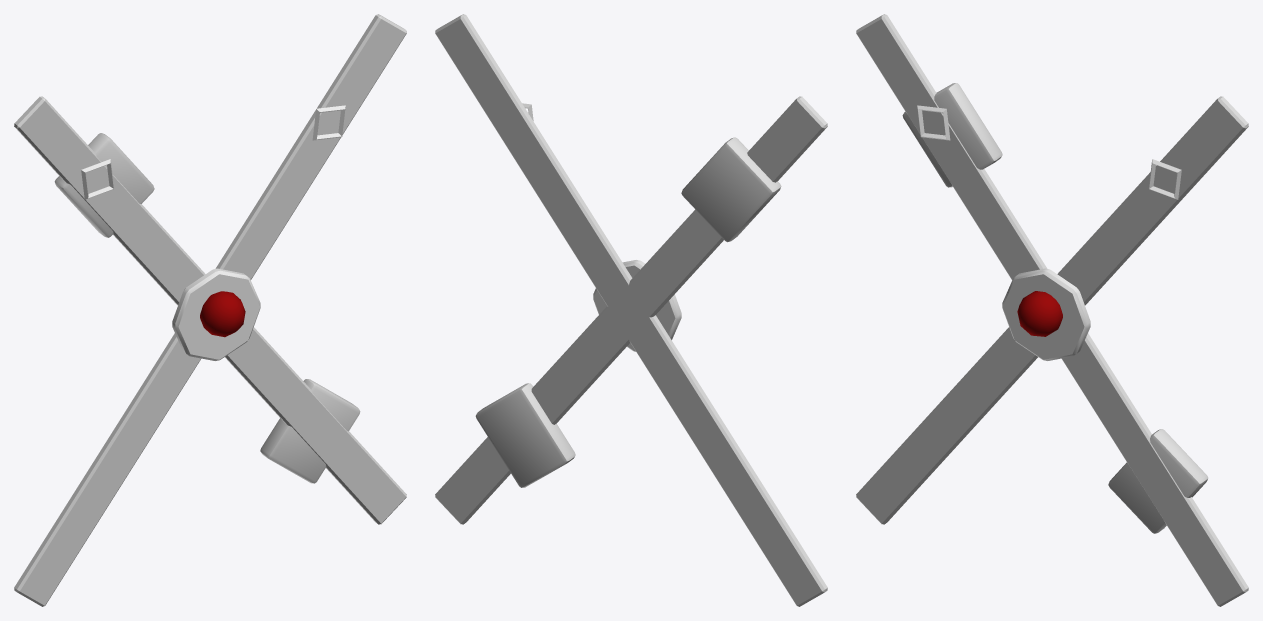
Rendered from daggers_Harness.fbx.
3 views of the same model, side by side, from view 1: azimuth 30°, elevation 25°; view 2: azimuth 150°, elevation 25°; view 3: azimuth 330°, elevation 25° (orthographic).
Parts seen in each view (by area): view 1: Harness; view 2: Harness; view 3: Harness.
Boxes of the visible parts, left/top/right/bottom form: Harness: left=14, top=14, right=406, bottom=606; Harness: left=435, top=14, right=827, bottom=606; Harness: left=856, top=14, right=1248, bottom=606.
Bounding box in the file's own units: 1.52 × 1.89 × 0.215.
